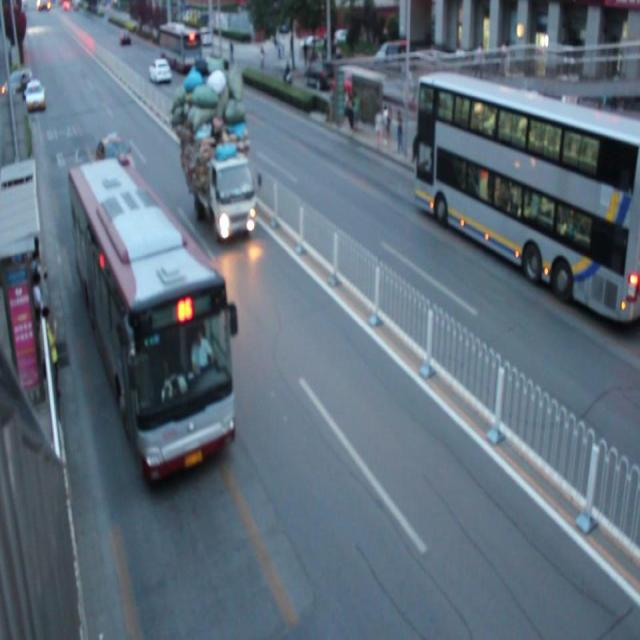bus: (182, 68, 255, 242)
car: (94, 130, 137, 184), (148, 56, 172, 86)
van: (416, 74, 640, 318), (70, 160, 232, 482)
